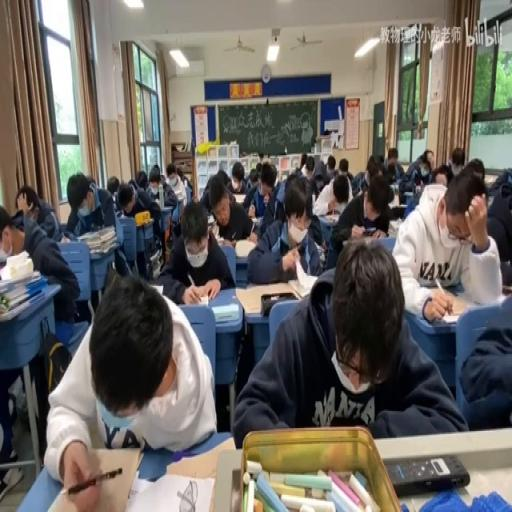calculator: (126, 469, 215, 512), (162, 434, 234, 480), (235, 280, 301, 313), (435, 292, 480, 322), (192, 292, 238, 314), (0, 266, 38, 290), (288, 276, 314, 299), (234, 238, 258, 256), (148, 248, 161, 278), (208, 218, 220, 238), (148, 282, 164, 296), (387, 218, 399, 236), (418, 276, 439, 286), (314, 240, 326, 256), (216, 233, 232, 245), (391, 202, 407, 213), (402, 189, 416, 201), (322, 213, 339, 222), (138, 214, 153, 224), (232, 192, 246, 202), (152, 195, 162, 209), (483, 174, 496, 184), (250, 214, 262, 224), (148, 184, 158, 196), (389, 182, 398, 195), (59, 233, 70, 243)
paper: (232, 240, 460, 444), (46, 269, 216, 506), (392, 168, 503, 321), (0, 202, 42, 442), (157, 198, 232, 304), (246, 179, 322, 282), (458, 318, 510, 430), (330, 168, 394, 250), (116, 176, 164, 270), (64, 171, 115, 239), (15, 185, 61, 242), (485, 170, 512, 267), (402, 148, 434, 190), (200, 168, 230, 208), (163, 161, 188, 203), (310, 156, 334, 195), (225, 160, 247, 194), (1, 223, 24, 255), (466, 156, 485, 182), (449, 146, 465, 176), (274, 180, 288, 214), (431, 164, 450, 186), (350, 170, 366, 194), (365, 156, 378, 180), (134, 168, 148, 190), (147, 164, 160, 186), (106, 175, 118, 196), (383, 166, 396, 184), (268, 164, 277, 186), (248, 166, 258, 185), (388, 148, 398, 165), (297, 154, 306, 172), (338, 158, 348, 173), (306, 158, 314, 173), (182, 175, 191, 188), (426, 155, 432, 169), (258, 151, 265, 162), (378, 154, 384, 164)
person: (384, 452, 470, 494), (501, 284, 511, 294), (362, 229, 375, 236)
